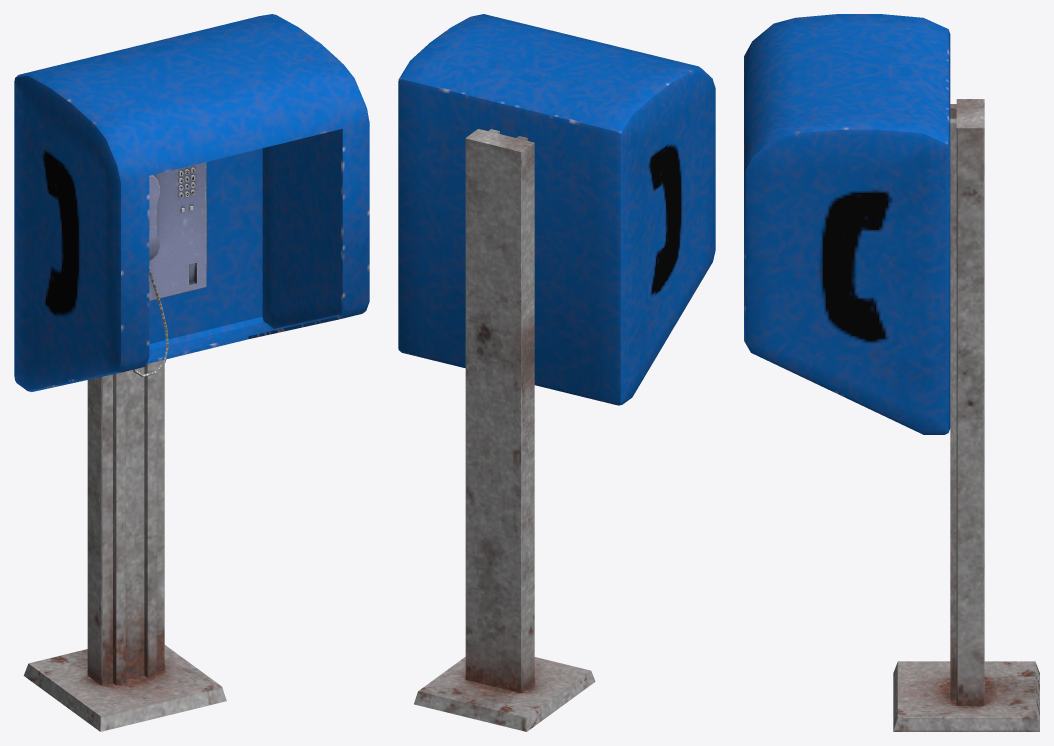
Rendered from cabina Telefonica_low.fbx.
3 renders of one model, left to right at view 1: azimuth 30°, elevation 25°; view 2: azimuth 150°, elevation 25°; view 3: azimuth 270°, elevation 25°, orthographic. The views are drawn at different scales.
Visible parts, largest first — view 1: telefono publico.001, telefono publico, telefono publico.002; view 2: telefono publico.001, telefono publico; view 3: telefono publico.001, telefono publico.
Part boxes in pixels (x1,y1,x2,y2): telefono publico.001: [14, 14, 369, 391]; telefono publico: [23, 360, 226, 731]; telefono publico.002: [133, 162, 206, 377]; telefono publico.001: [398, 14, 715, 405]; telefono publico: [414, 129, 595, 731]; telefono publico.001: [744, 14, 950, 434]; telefono publico: [893, 99, 1039, 731].
Bounding box in the file's own units: 75.38 × 190 × 80.32.
3 materials, 3 textured.
